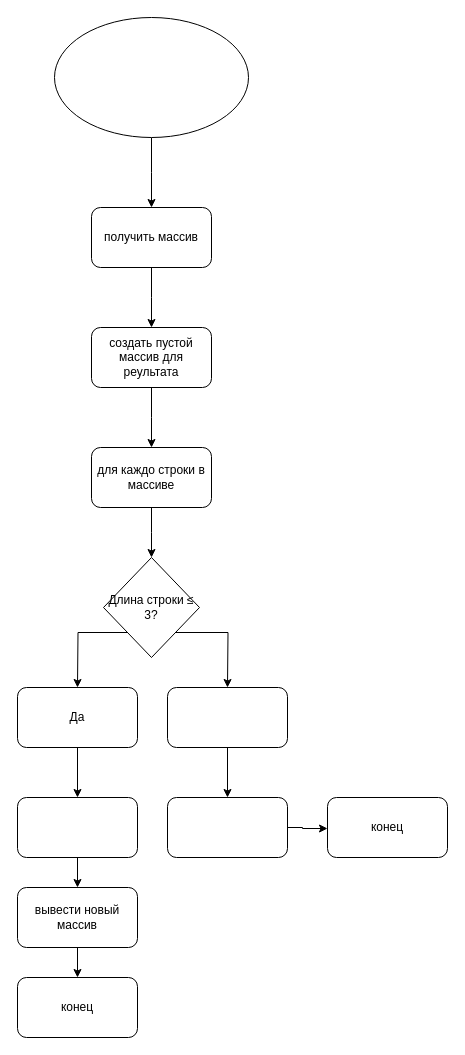
This 465x1055 diagram has some shape labels left out. The centre of each missing label's shape, as x and y in pixels:
Start: the point at 151,77
Добавить его в результат: the point at 77,827
Нет: the point at 227,717
нечего: the point at 227,827
